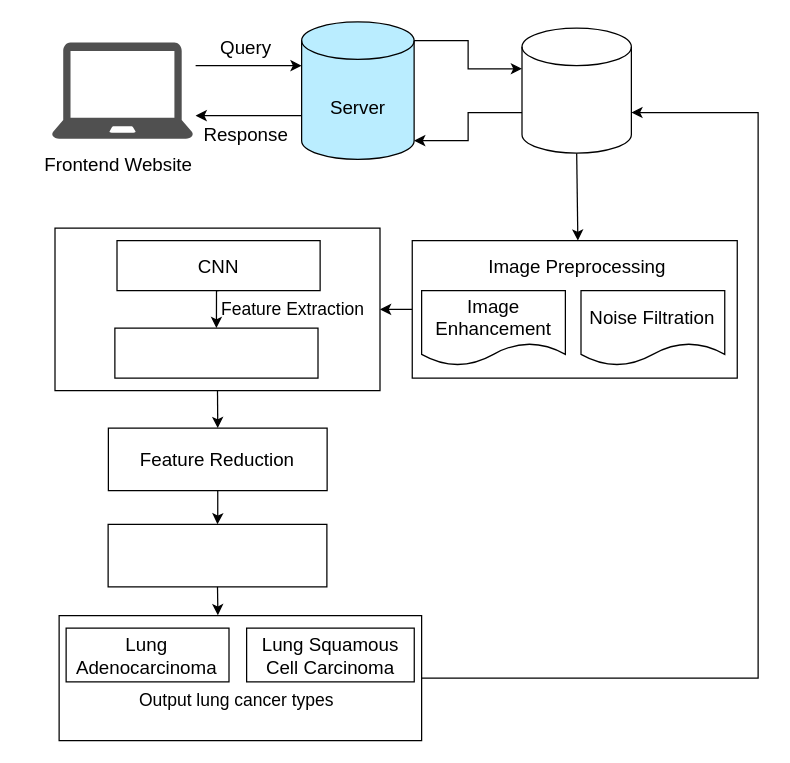
Some shapes in this 790 by 763 pixel diagram are drawn without their labels. The shapes that lost their labels are listed below. From the top down, each one's centre as x and y in pixels, then its label:
At (x=576, y=90): "Model".
At (x=216, y=352): "Feature Vector".
At (x=217, y=555): "Classification".
